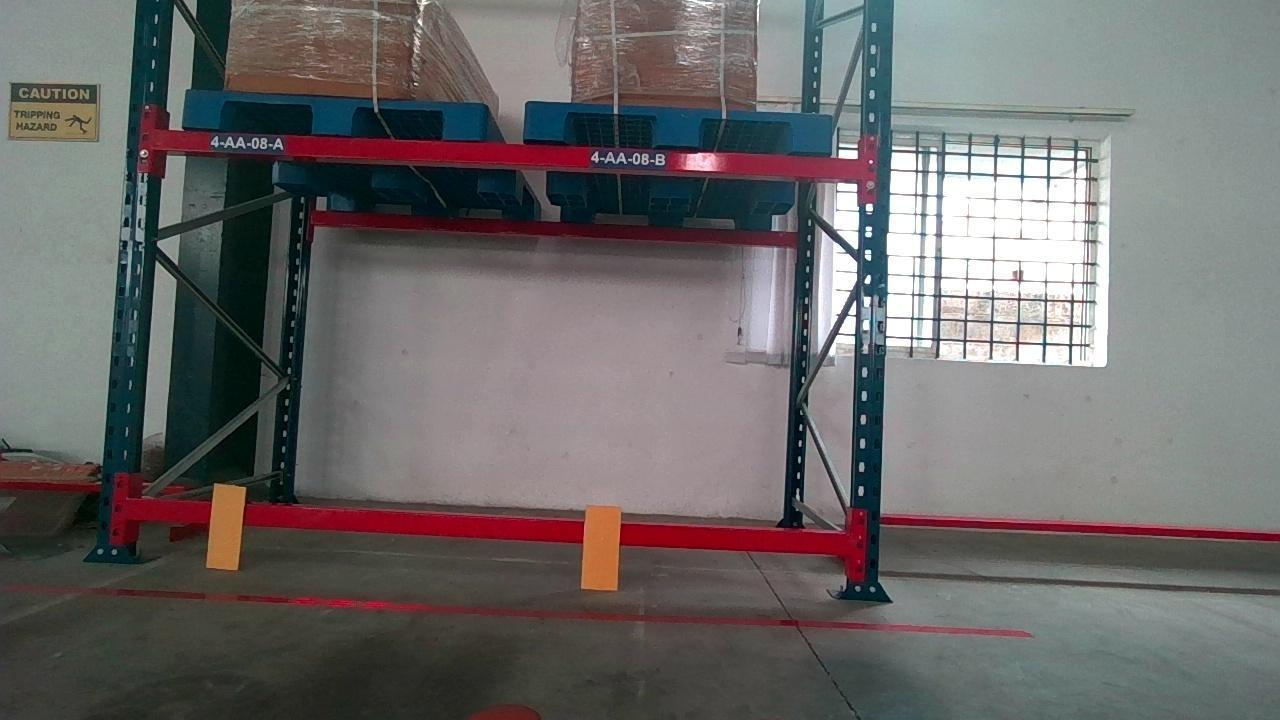h_rack: (121, 499, 850, 552), (152, 129, 864, 178)
orange_strip: (581, 504, 621, 589), (206, 483, 245, 567)
small_pallet: (527, 103, 836, 148), (181, 95, 481, 134)
